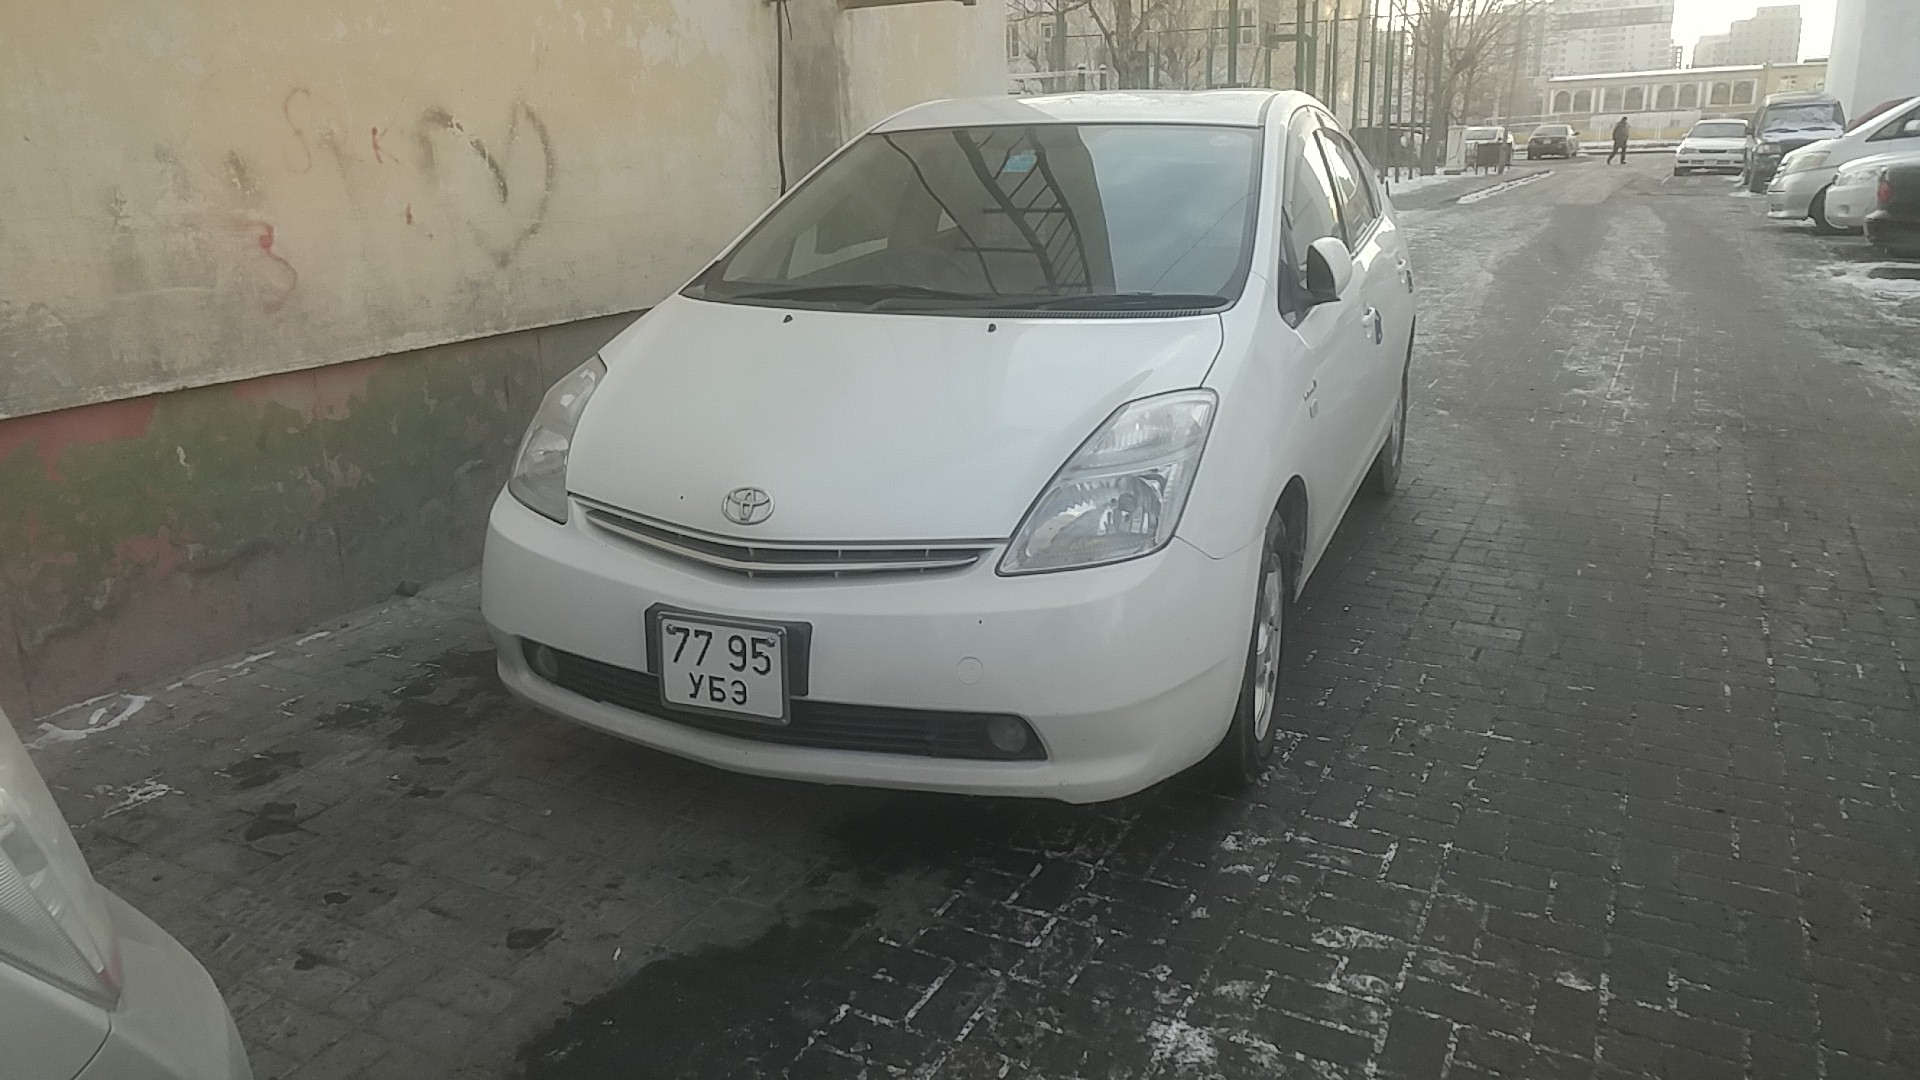5: (749, 634, 776, 676)
7: (693, 628, 714, 668), (670, 626, 691, 663)
9: (727, 632, 748, 672)
b: (708, 673, 728, 704)
e: (729, 677, 749, 707)
plate: (656, 610, 794, 730)
u: (688, 670, 705, 700)
